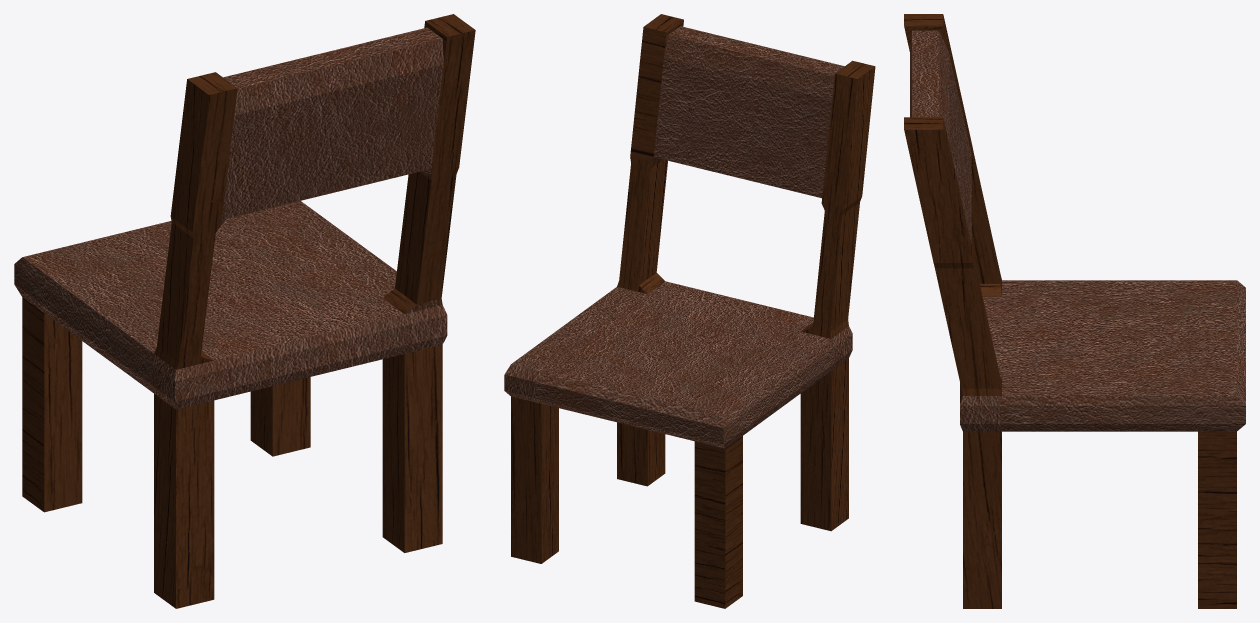
Rendered from chair_01.glb.
3 renders of one model, left to right at view 1: azimuth 30°, elevation 25°; view 2: azimuth 150°, elevation 25°; view 3: azimuth 270°, elevation 25°, orthographic. The views are drawn at different scales.
Visible parts, largest first — view 1: Cube; view 2: Cube; view 3: Cube.
Boxes of the visible parts, x1,y1,x2,y2 form: Cube: [14, 14, 475, 608]; Cube: [504, 14, 875, 608]; Cube: [904, 14, 1245, 608].
Bounding box in the file's own units: 1.43 × 2.7 × 1.75.
Materials: 2 (2 with a texture image).
